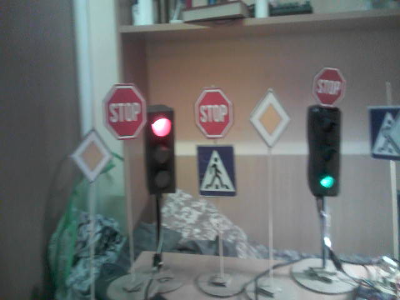crosswalk: (197, 145, 235, 196)
priority_road: (71, 132, 113, 177), (254, 92, 288, 146)
stop: (105, 83, 146, 138), (195, 90, 232, 137)
trafficlight_green: (313, 113, 339, 195)
trafficlight_red: (148, 110, 174, 191)
